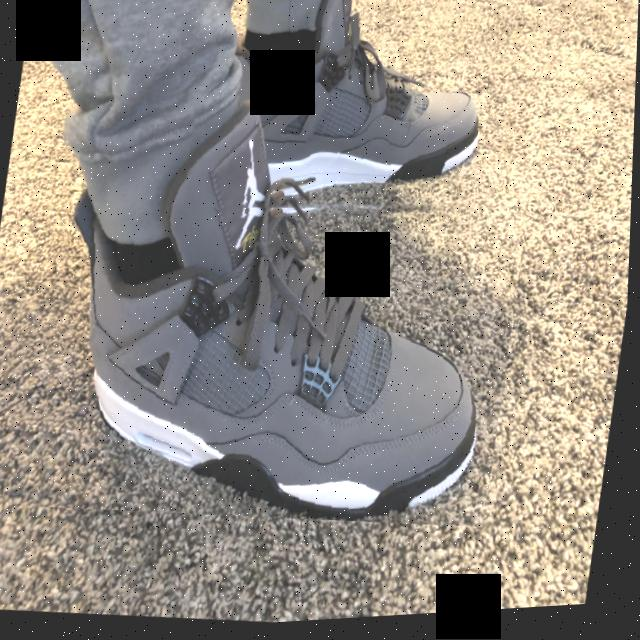shoe: (13, 59, 546, 555), (177, 0, 506, 239)
